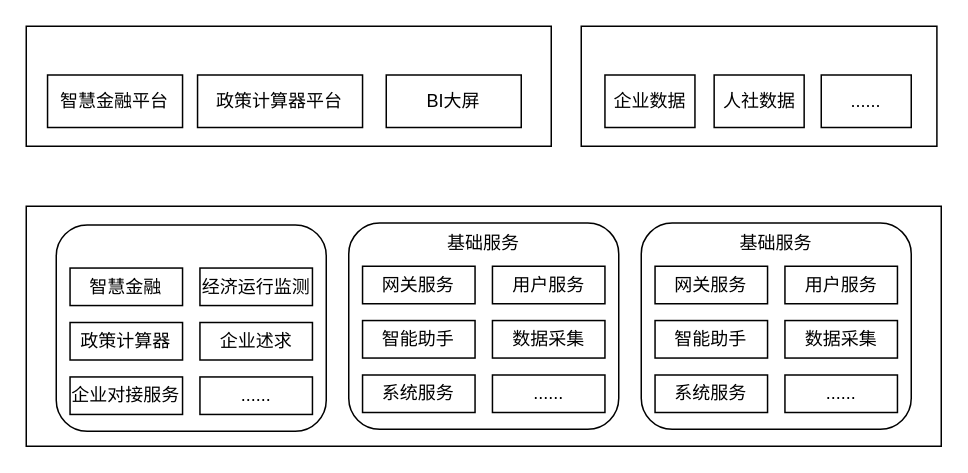
Some shapes in this 968 by 473 pixel diagram are drawn without their labels. The shapes that lost their labels are listed below. From the top down, each one's box as (x1, y1, x2, y2) in pixels, then its label:
(25, 25, 551, 146): 业务层
(580, 25, 937, 146): 对接层
(55, 224, 326, 431): 业务服务
